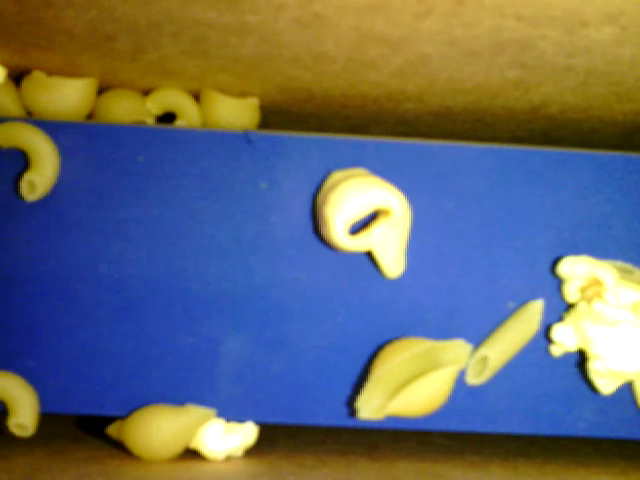elbow: (2, 120, 59, 201), (1, 369, 40, 437), (145, 86, 203, 125)
penne: (465, 293, 546, 387)
shell: (352, 334, 473, 421), (103, 401, 221, 460), (19, 71, 98, 120), (199, 87, 259, 130), (92, 85, 156, 125)
tortellini: (312, 165, 413, 280)
